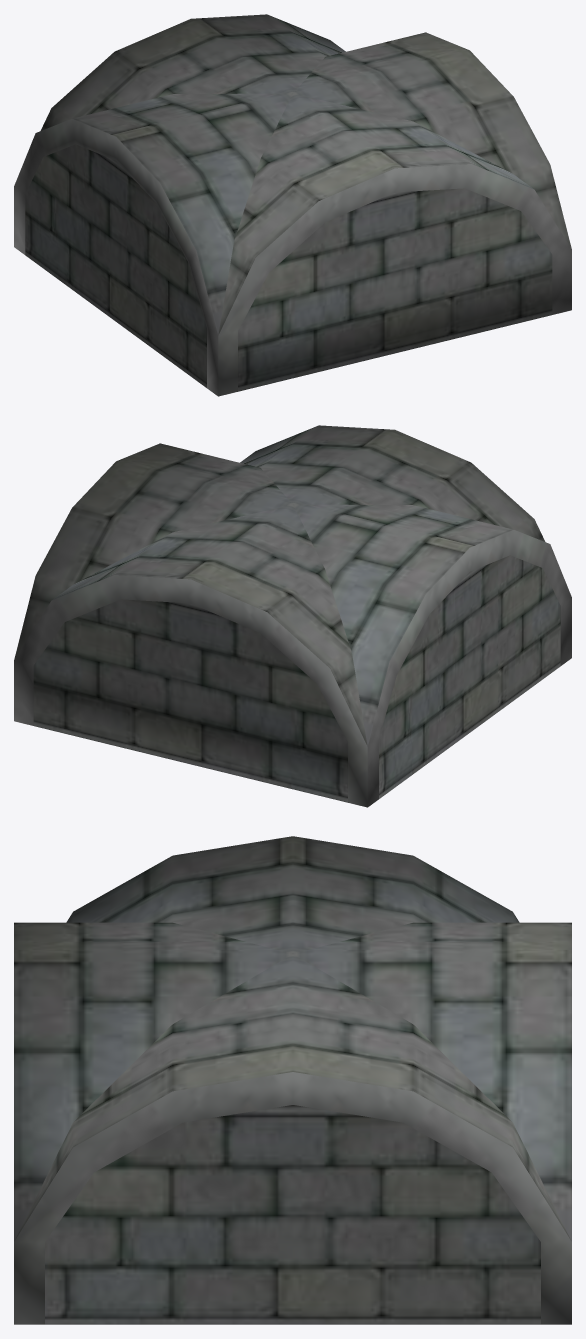
The model's file is sd_vault_ceiling_large_06.glb.
3 renders of one model, top to bottom at view 1: azimuth 30°, elevation 25°; view 2: azimuth 150°, elevation 25°; view 3: azimuth 270°, elevation 25°, orthographic. The views are drawn at different scales.
Parts seen in each view (by area): view 1: vault_ceiling_large_06; view 2: vault_ceiling_large_06; view 3: vault_ceiling_large_06.
Boxes of the visible parts, x1,y1,x2,y2 form: vault_ceiling_large_06: (14,14,571,396); vault_ceiling_large_06: (14,425,571,807); vault_ceiling_large_06: (14,836,571,1324).
Size of the model in its own units: 4 by 2 by 4.
1 material, 1 textured.
